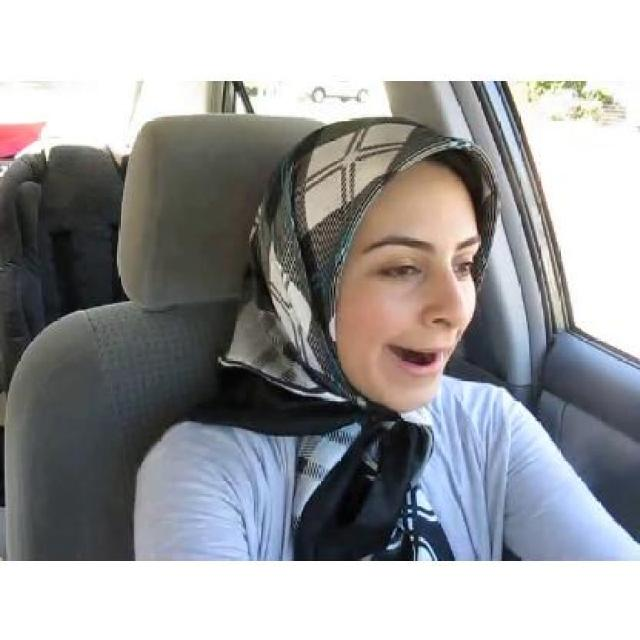inattentif: (264, 114, 473, 414)
